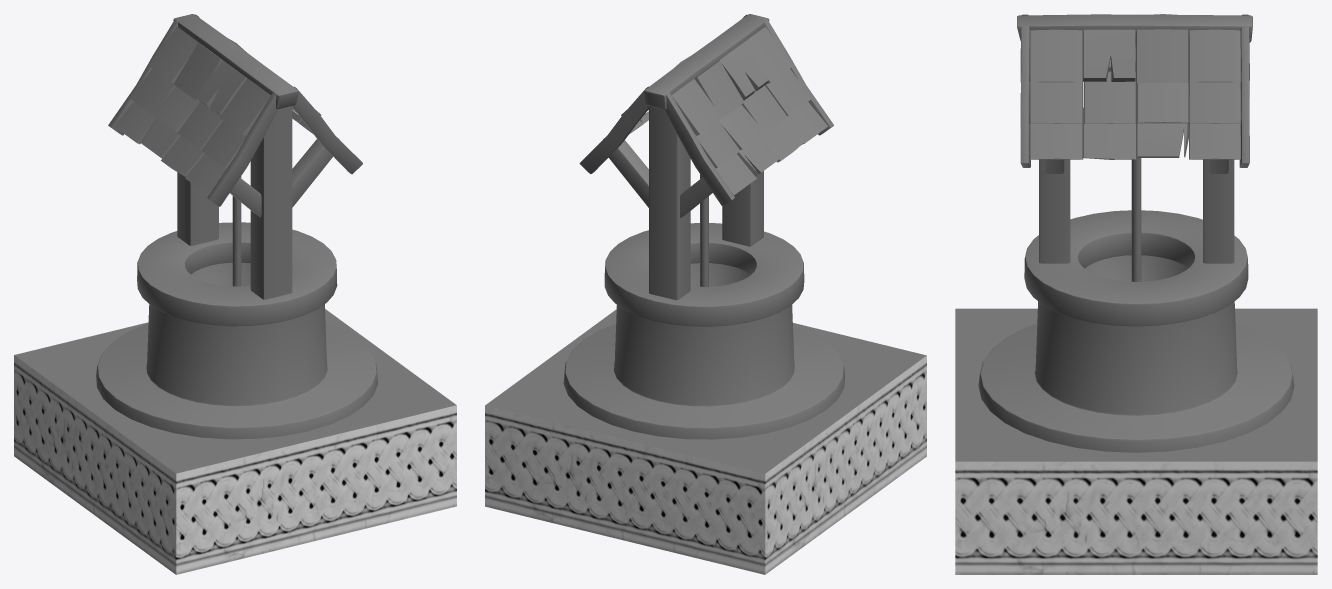
Rendered from med_well.fbx.
3 views of the same model, side by side, from view 1: azimuth 30°, elevation 25°; view 2: azimuth 150°, elevation 25°; view 3: azimuth 270°, elevation 25° (orthographic). The views are drawn at different scales.
Parts seen in each view (by area): view 1: med_tile_ew_well, med_tile_ew_boundary_well_hd; view 2: med_tile_ew_well, med_tile_ew_boundary_well_hd; view 3: med_tile_ew_well, med_tile_ew_boundary_well_hd.
Boxes of the visible parts, x1,y1,x2,y2 form: med_tile_ew_well: [96, 14, 377, 439]; med_tile_ew_boundary_well_hd: [14, 309, 456, 574]; med_tile_ew_well: [563, 14, 845, 439]; med_tile_ew_boundary_well_hd: [485, 309, 926, 574]; med_tile_ew_well: [978, 14, 1294, 452]; med_tile_ew_boundary_well_hd: [955, 308, 1317, 574].
Bounding box in the file's own units: 100 × 146 × 100.
